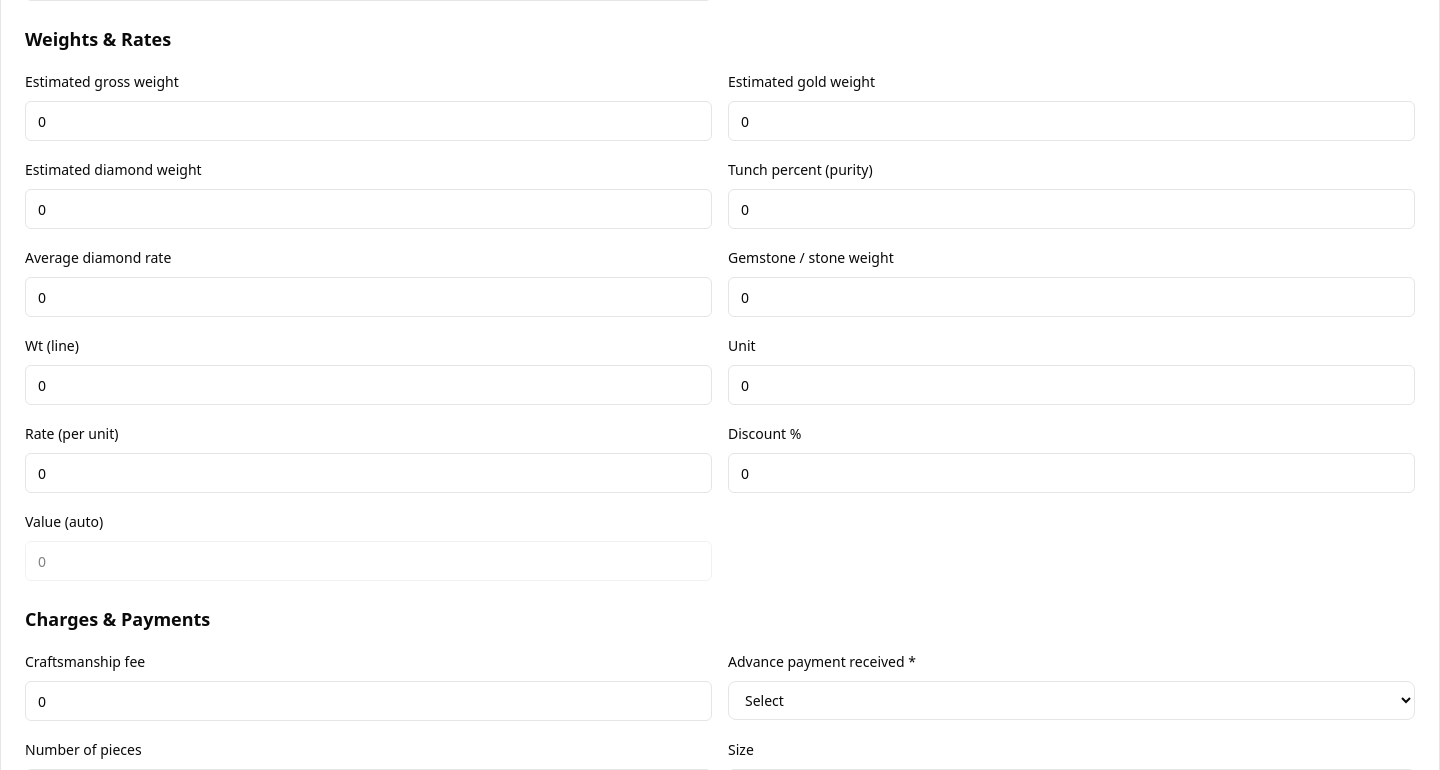
VoucherForm › Auto-calculation › calculates valueItem from wt, rateItem, and discountPct
This screenshot has width=1440, height=770.
(page scrolled)
Replace the text in the number field labelled "Wt (line)" with "10" at (368, 385), box x1=25 y1=365 x2=712 y2=405
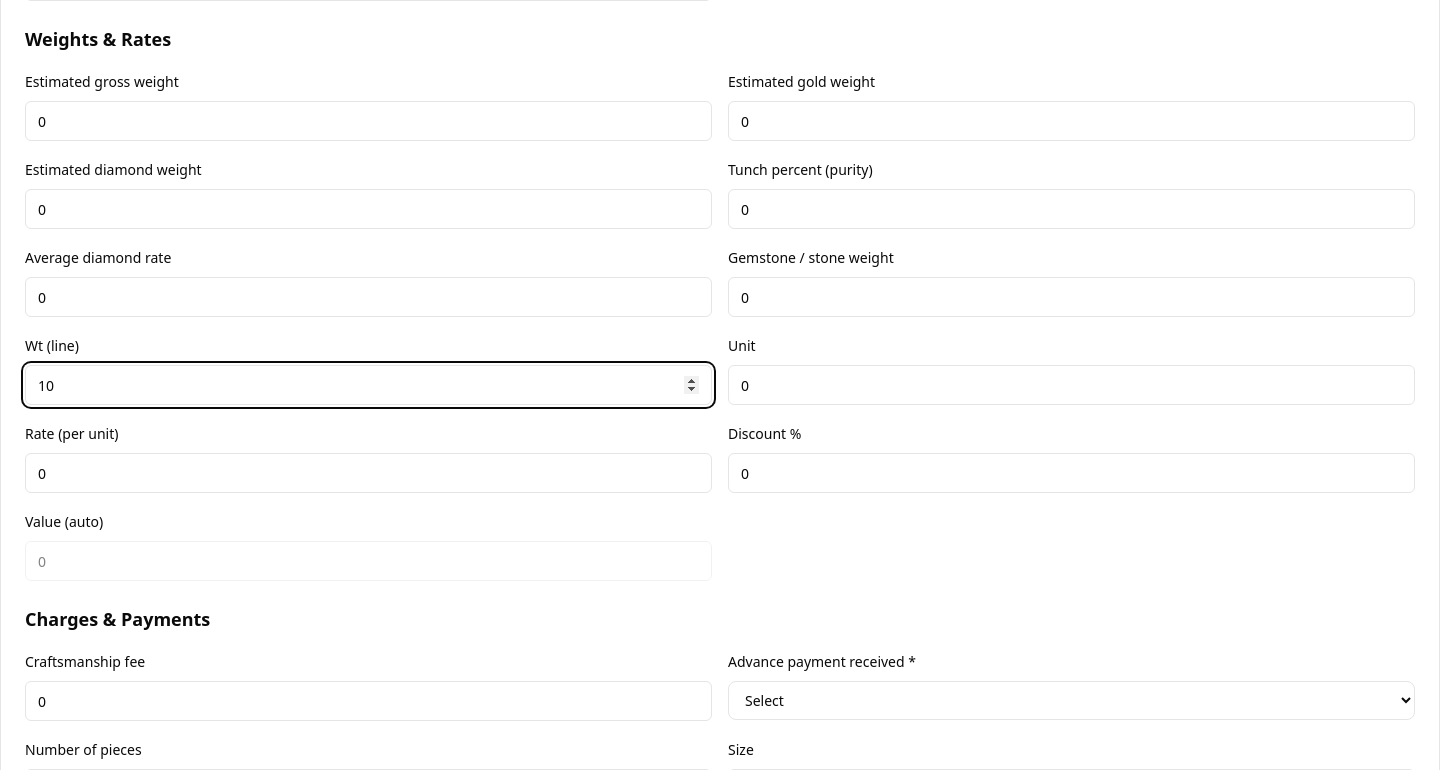
Replace the text in the number field labelled "Rate (per unit)" with "1000" at (368, 473), box x1=25 y1=453 x2=712 y2=493
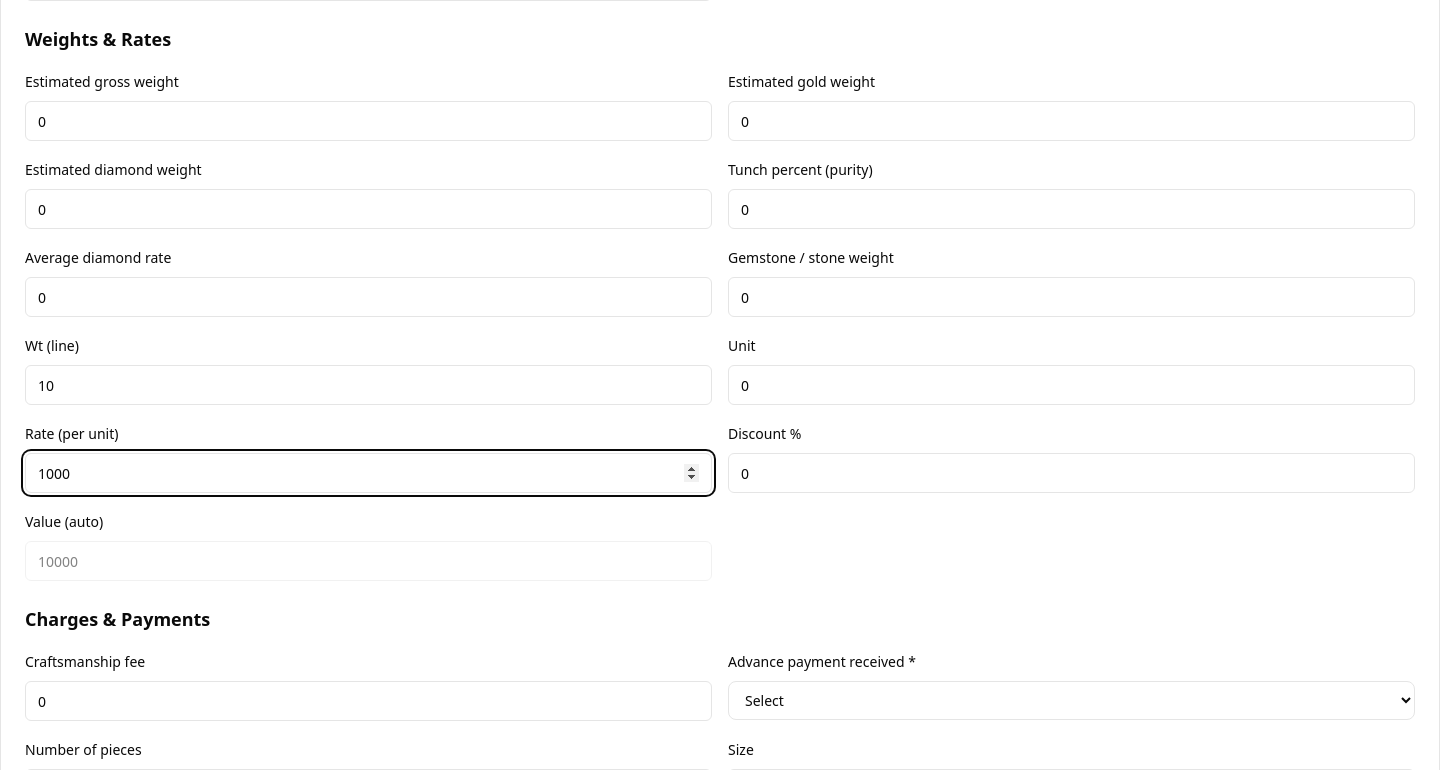
Replace the text in the number field labelled "Discount %" with "10" at (1072, 473), box x1=728 y1=453 x2=1415 y2=493
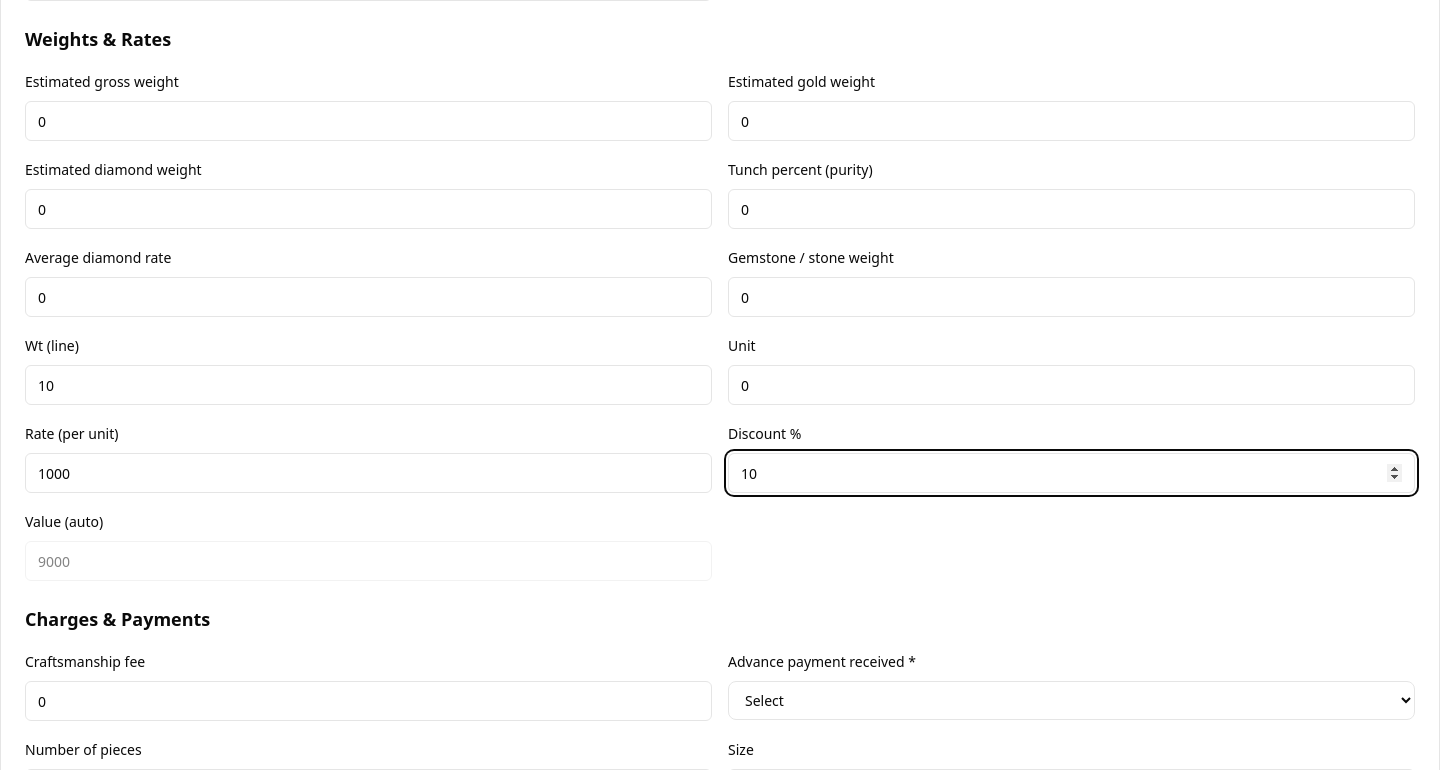
Result: the number field labelled "Value (auto)" holds "9000" at x1=25 y1=541 x2=712 y2=581
